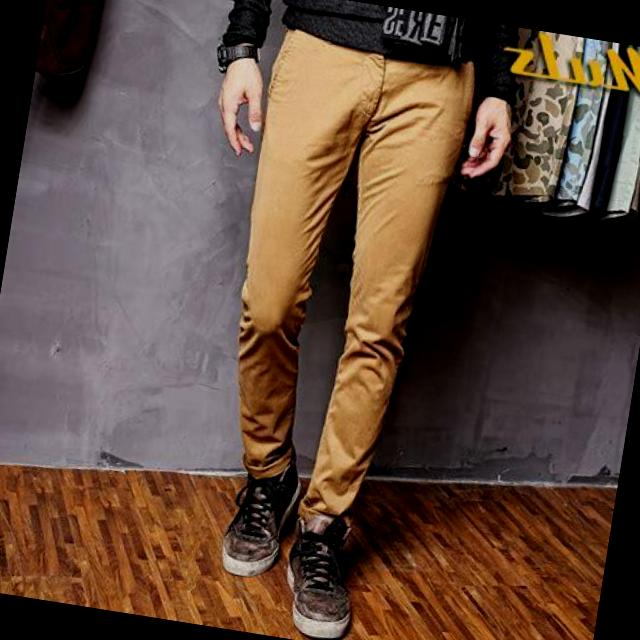pants: (201, 22, 480, 536)
